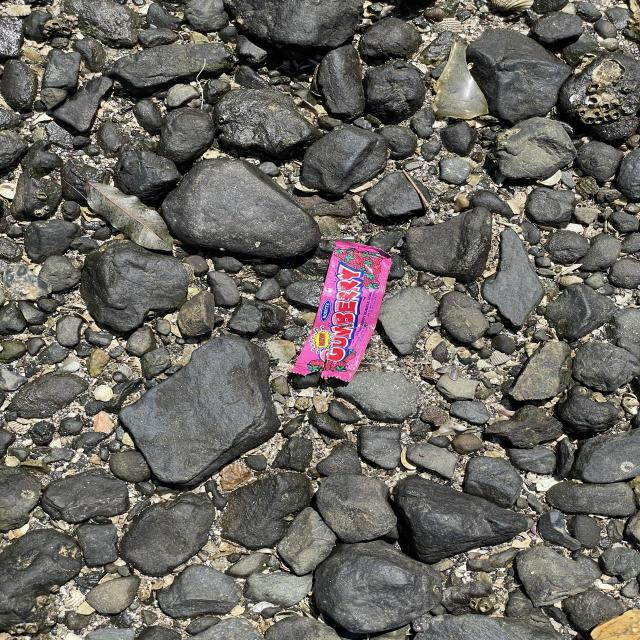plastic_waste: (290, 239, 392, 381)
